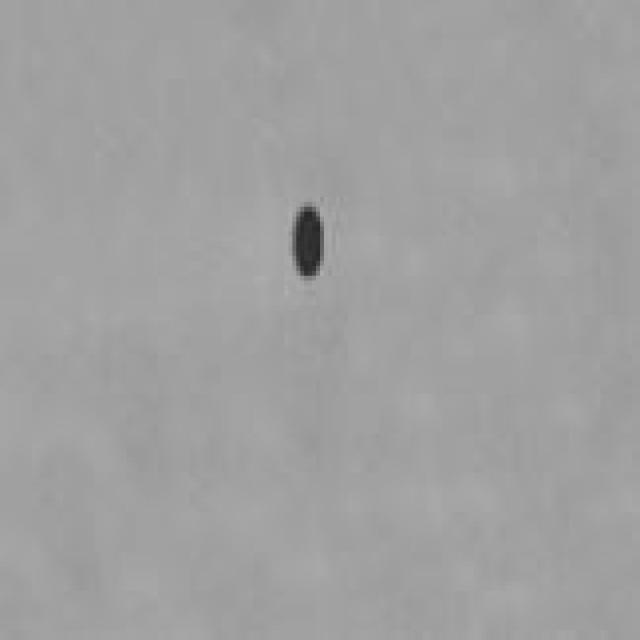Defect3: (246, 169, 363, 311)
